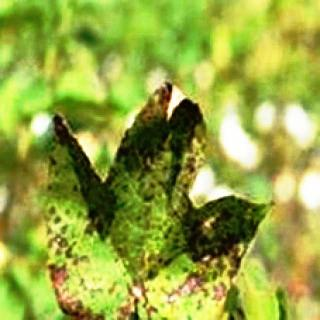leaf spot: (46, 81, 275, 315)
